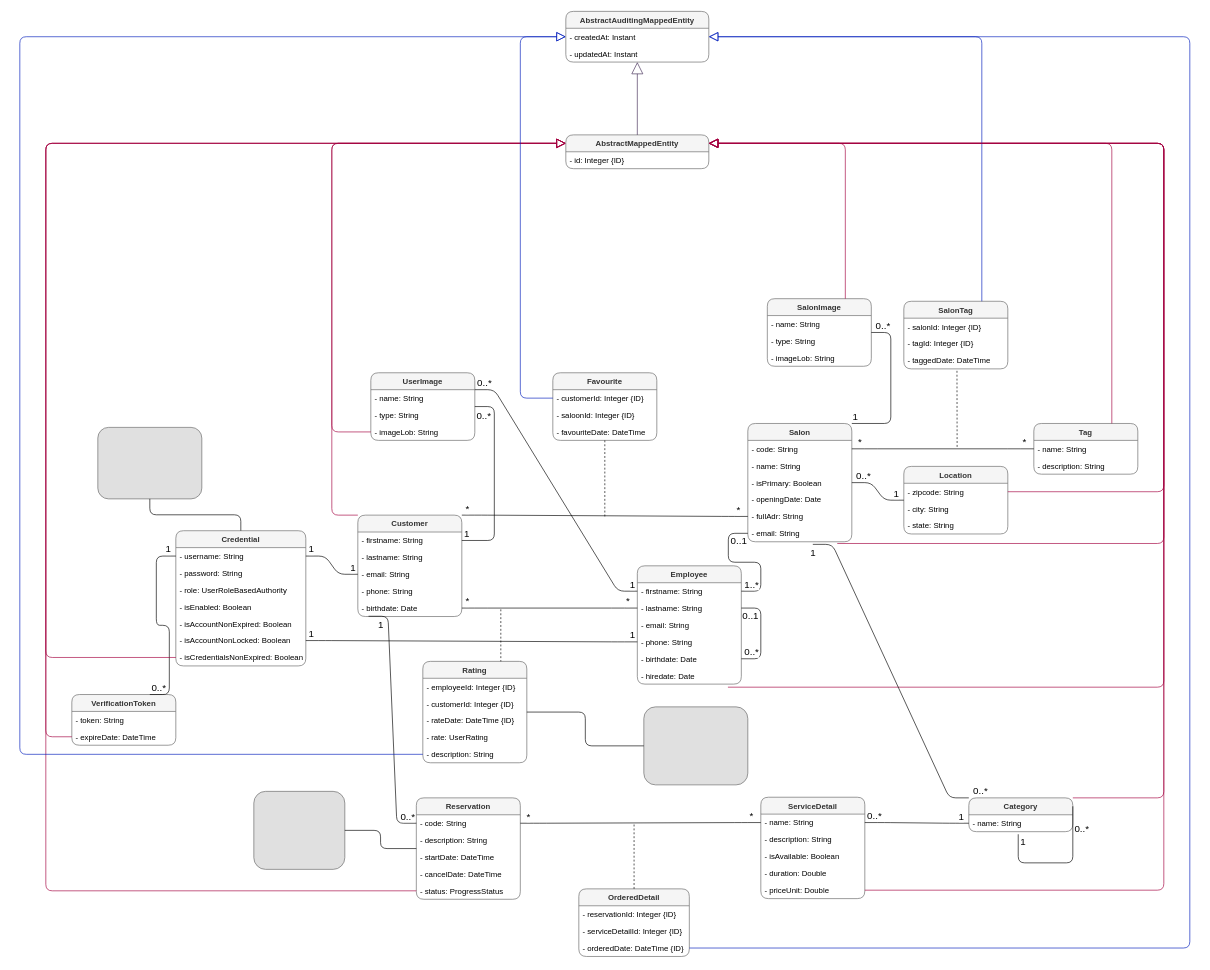
Image size: 1210x970. Some labels were removed from this diagram. The shapes that lost their labels are listed below. From the top down, each one's centre as x and y in pixels, then its label:
At pixel 149 463: "<<enum>> UserRoleBasedAuthority + CUSTOMER + WORKER + MANAGER + OWNER".
At pixel 695 745: "<<enum>> UserRating + VERY_BAD + BAD + NEUTRAL + GOOD + PERFECT".
At pixel 299 830: "<<enum>> ProgressStatus + NOT_STARTED + IN_PROGRESS + COMPLETED + CANCELLED".
